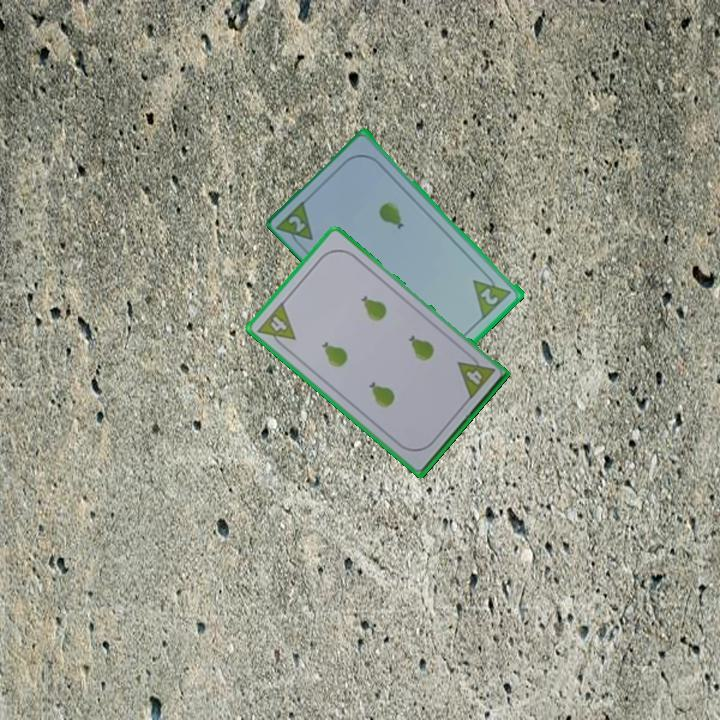2p: (477, 284, 502, 308), (285, 212, 309, 235)
4p: (254, 298, 298, 353), (454, 349, 497, 402)
